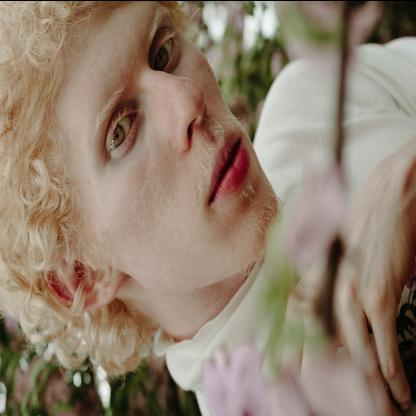Eye: (104, 96, 142, 162), (149, 24, 185, 70)
Mouth: (206, 127, 254, 213)
Nose: (140, 69, 208, 150)
